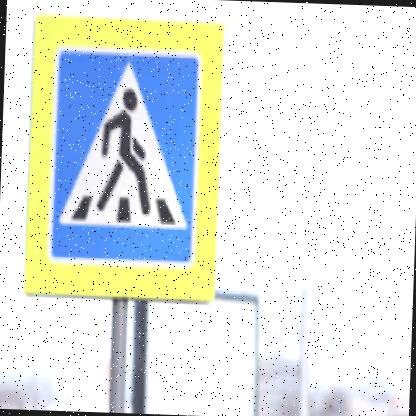crosswalk: (52, 49, 200, 262)
